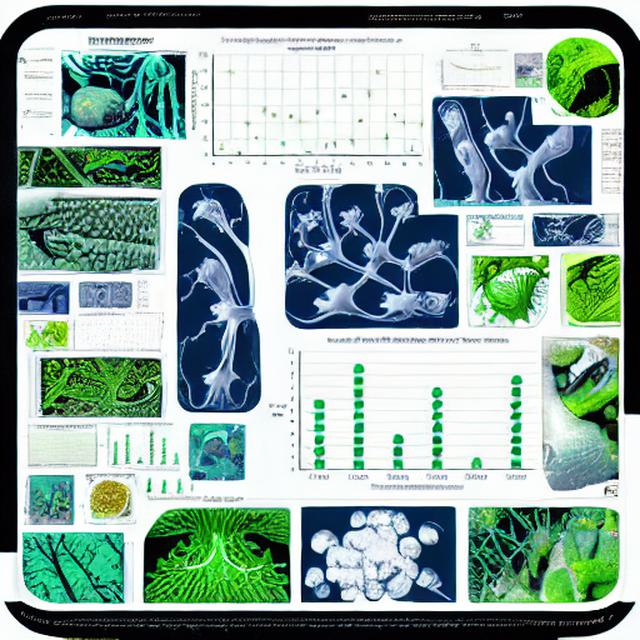Graph: (261, 330, 540, 501), (187, 33, 428, 174), (98, 422, 184, 472), (433, 47, 513, 94), (68, 313, 137, 355)
